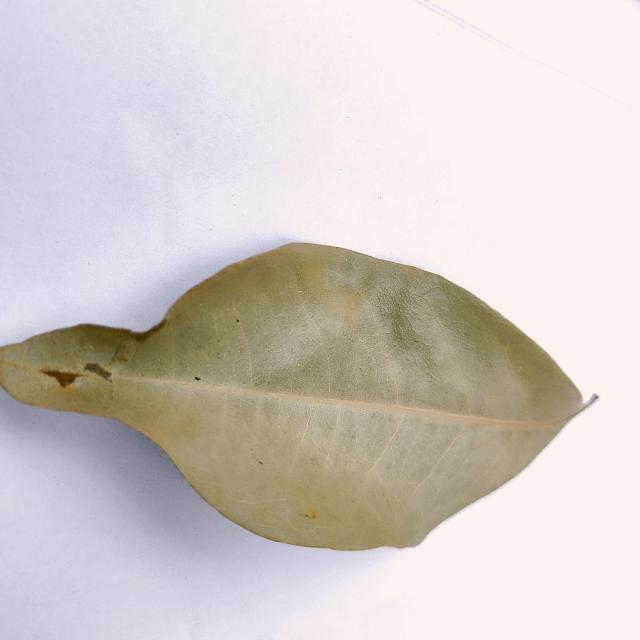Dry_Leaf-Lychee: (0, 243, 597, 554)
